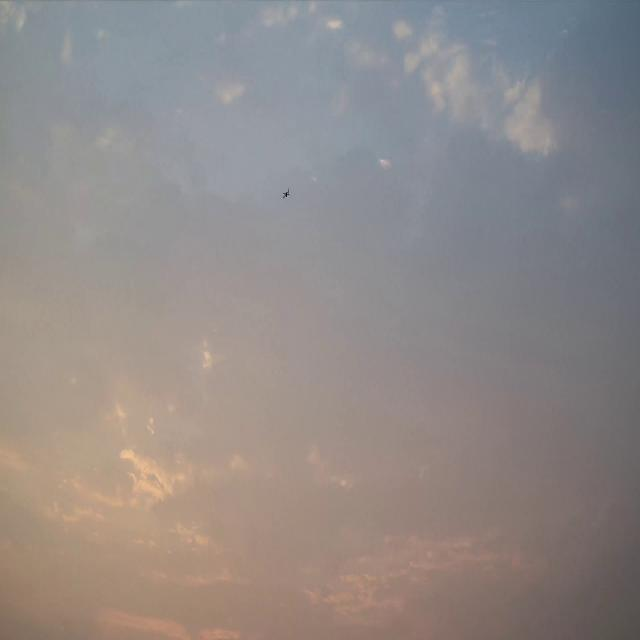drone: (283, 188, 289, 199)
